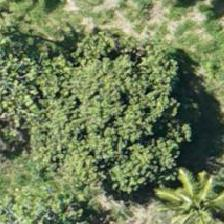coconut_tree: (138, 152, 223, 223), (176, 102, 223, 192)
